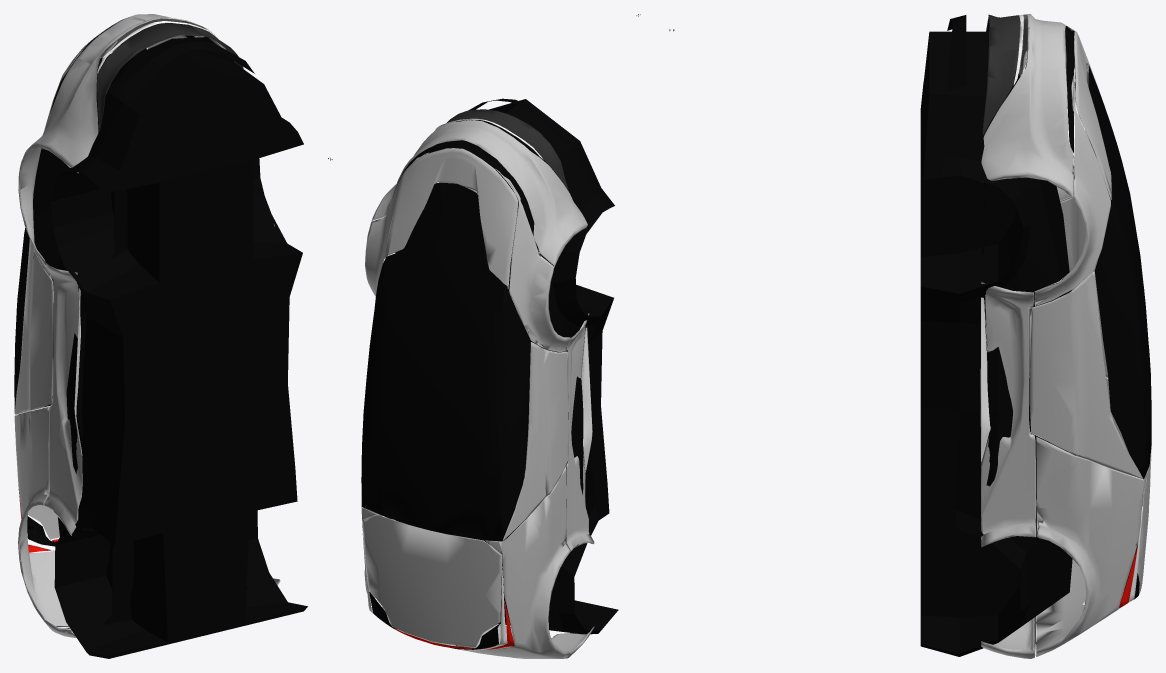
The model's file is seraph-r-lod1.glb.
The picture shows the model from 3 angles, left to right: view 1: azimuth 30°, elevation 25°; view 2: azimuth 150°, elevation 25°; view 3: azimuth 270°, elevation 25°; orthographic projection. The views are drawn at different scales.
Parts seen in each view (by area): view 1: Cube.039_blockers_0, Cube.044_body_color_supra.001_0, Cube.038_body_color_supra.001_0, Cube.042_body_color_supra.001_0, Cube.040_body_color_supra.001_0, Cube.028_blockers_0, Cube.032_plasticShiny_0, Cube.034_plasticMatte_0, Cube.051_blockers_0, Cube.033_body_color_supra.001_0, Cube.020_chrome_0, Cube.041_body_color_supra.001_0 (+1 smaller); view 2: Cube.032_plasticShiny_0, Cube.039_blockers_0, Cube.041_body_color_supra.001_0, Cube.042_body_color_supra.001_0, Cube.035_body_color_supra.001_0, Cube.038_body_color_supra.001_0, Cube.040_body_color_supra.001_0, Cube.033_body_color_supra.001_0, Cube.044_body_color_supra.001_0, Cube.020_chrome_0, Cube.034_plasticMatte_0, Cube.031_headlightCovers_0 (+4 smaller); view 3: Cube.039_blockers_0, Cube.042_body_color_supra.001_0, Cube.040_body_color_supra.001_0, Cube.032_plasticShiny_0, Cube.038_body_color_supra.001_0, Cube.044_body_color_supra.001_0, Cube.033_body_color_supra.001_0, Cube.034_plasticMatte_0, Cube.035_body_color_supra.001_0, Cube.020_chrome_0, Cube.051_blockers_0, Cube.043_body_color_supra.001_0 (+3 smaller).
Part boxes in pixels (x1=…): Cube.039_blockers_0: x1=51, y1=44, x2=307, y2=658; Cube.044_body_color_supra.001_0: x1=44, y1=224, x2=274, y2=535; Cube.038_body_color_supra.001_0: x1=25, y1=14, x2=225, y2=173; Cube.042_body_color_supra.001_0: x1=14, y1=406, x2=68, y2=627; Cube.040_body_color_supra.001_0: x1=14, y1=239, x2=53, y2=414; Cube.028_blockers_0: x1=77, y1=37, x2=249, y2=624; Cube.032_plasticShiny_0: x1=14, y1=48, x2=146, y2=546; Cube.034_plasticMatte_0: x1=97, y1=23, x2=243, y2=131; Cube.051_blockers_0: x1=121, y1=41, x2=254, y2=103; Cube.033_body_color_supra.001_0: x1=18, y1=40, x2=91, y2=276; Cube.020_chrome_0: x1=15, y1=21, x2=218, y2=550; Cube.041_body_color_supra.001_0: x1=28, y1=407, x2=59, y2=539; Cube.032_plasticShiny_0: x1=361, y1=184, x2=529, y2=649; Cube.039_blockers_0: x1=395, y1=99, x2=618, y2=634; Cube.041_body_color_supra.001_0: x1=362, y1=514, x2=502, y2=647; Cube.042_body_color_supra.001_0: x1=361, y1=466, x2=570, y2=658; Cube.035_body_color_supra.001_0: x1=384, y1=148, x2=517, y2=288; Cube.038_body_color_supra.001_0: x1=371, y1=120, x2=587, y2=267; Cube.040_body_color_supra.001_0: x1=502, y1=342, x2=568, y2=540; Cube.033_body_color_supra.001_0: x1=365, y1=152, x2=570, y2=351; Cube.044_body_color_supra.001_0: x1=566, y1=313, x2=594, y2=551; Cube.020_chrome_0: x1=362, y1=118, x2=592, y2=650; Cube.034_plasticMatte_0: x1=434, y1=109, x2=568, y2=190; Cube.031_headlightCovers_0: x1=393, y1=119, x2=537, y2=231; Cube.039_blockers_0: x1=920, y1=31, x2=1075, y2=656; Cube.042_body_color_supra.001_0: x1=1036, y1=377, x2=1147, y2=656; Cube.040_body_color_supra.001_0: x1=1030, y1=196, x2=1142, y2=478; Cube.032_plasticShiny_0: x1=1088, y1=66, x2=1151, y2=599; Cube.038_body_color_supra.001_0: x1=981, y1=14, x2=1073, y2=197; Cube.044_body_color_supra.001_0: x1=981, y1=282, x2=1036, y2=547; Cube.033_body_color_supra.001_0: x1=1034, y1=32, x2=1110, y2=306; Cube.034_plasticMatte_0: x1=982, y1=14, x2=1019, y2=135; Cube.035_body_color_supra.001_0: x1=1074, y1=31, x2=1111, y2=199; Cube.020_chrome_0: x1=980, y1=15, x2=1142, y2=604; Cube.051_blockers_0: x1=947, y1=15, x2=966, y2=91; Cube.043_body_color_supra.001_0: x1=981, y1=616, x2=1035, y2=658.
Bounding box in the file's own units: 164 × 455 × 328.
Materials: 13 (1 with a texture image).
